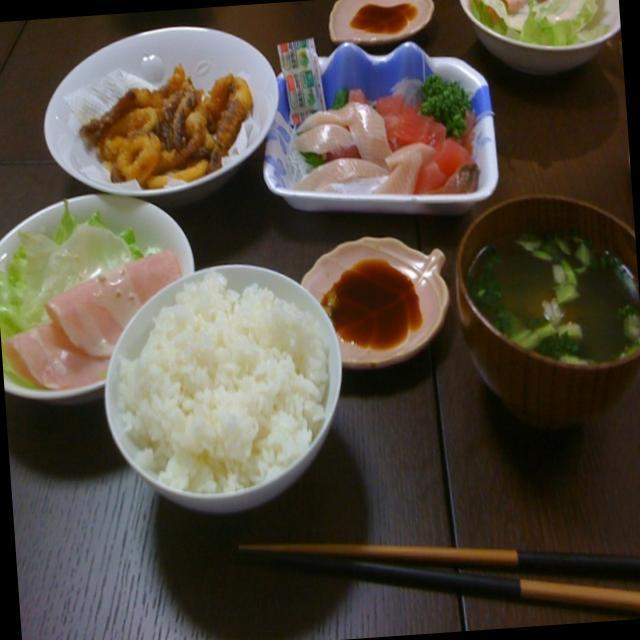Rice: (88, 233, 354, 536)
